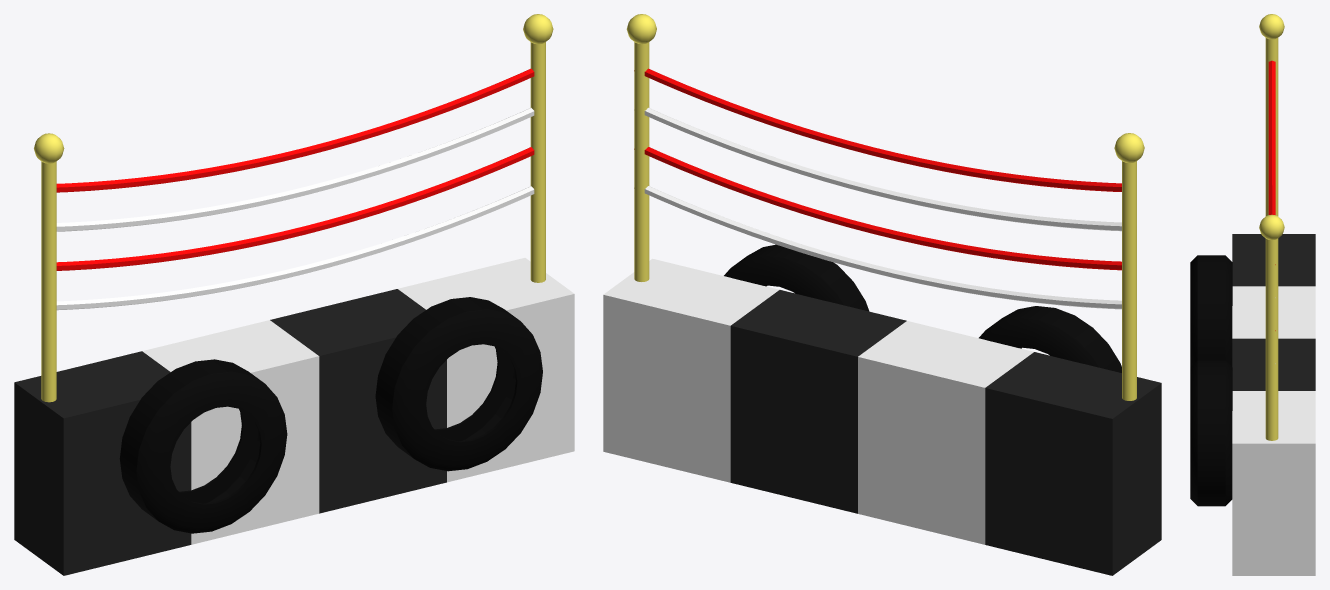
The model's file is Sshield.FBX.
3 renders of one model, left to right at view 1: azimuth 30°, elevation 25°; view 2: azimuth 150°, elevation 25°; view 3: azimuth 270°, elevation 25°, orthographic. The views are drawn at different scales.
Visible parts, largest first — view 1: Box001, Tire001, Tire002, Arc001, Arc003, Arc005, Arc004, Cylinder001, Cylinder002, Sphere001, Sphere002; view 2: Box001, Tire001, Tire002, Arc004, Arc005, Arc001, Arc003, Cylinder002, Cylinder001, Sphere002, Sphere001; view 3: Box001, Tire002, Tire001, Cylinder002, Cylinder001, Arc001, Sphere002, Sphere001.
Part boxes in pixels (x1,y1,x2,y2): Box001: (14,258,574,575); Tire001: (119,359,287,533); Tire002: (375,297,542,471); Arc001: (56,68,534,192); Arc003: (56,108,534,231); Arc005: (56,186,534,310); Arc004: (56,147,534,270); Cylinder001: (41,161,56,402); Cylinder002: (530,42,545,282); Sphere001: (34,133,64,163); Sphere002: (523,14,553,44); Box001: (603,258,1161,575); Tire001: (979,306,1121,372); Tire002: (724,244,869,311); Arc004: (634,147,1121,270); Arc005: (634,186,1121,309); Arc001: (634,68,1121,191); Arc003: (644,107,1121,231); Cylinder002: (634,42,649,281); Cylinder001: (1122,161,1136,400); Sphere002: (626,14,656,44); Sphere001: (1114,133,1144,163); Box001: (1232,234,1315,575); Tire002: (1190,360,1232,506); Tire001: (1190,255,1232,366); Cylinder002: (1265,238,1278,440); Cylinder001: (1265,38,1278,216); Arc001: (1268,60,1275,264); Sphere002: (1259,214,1284,240); Sphere001: (1259,14,1284,39).
Bounding box in the file's own units: 15.61 × 3.9 × 12.2.
